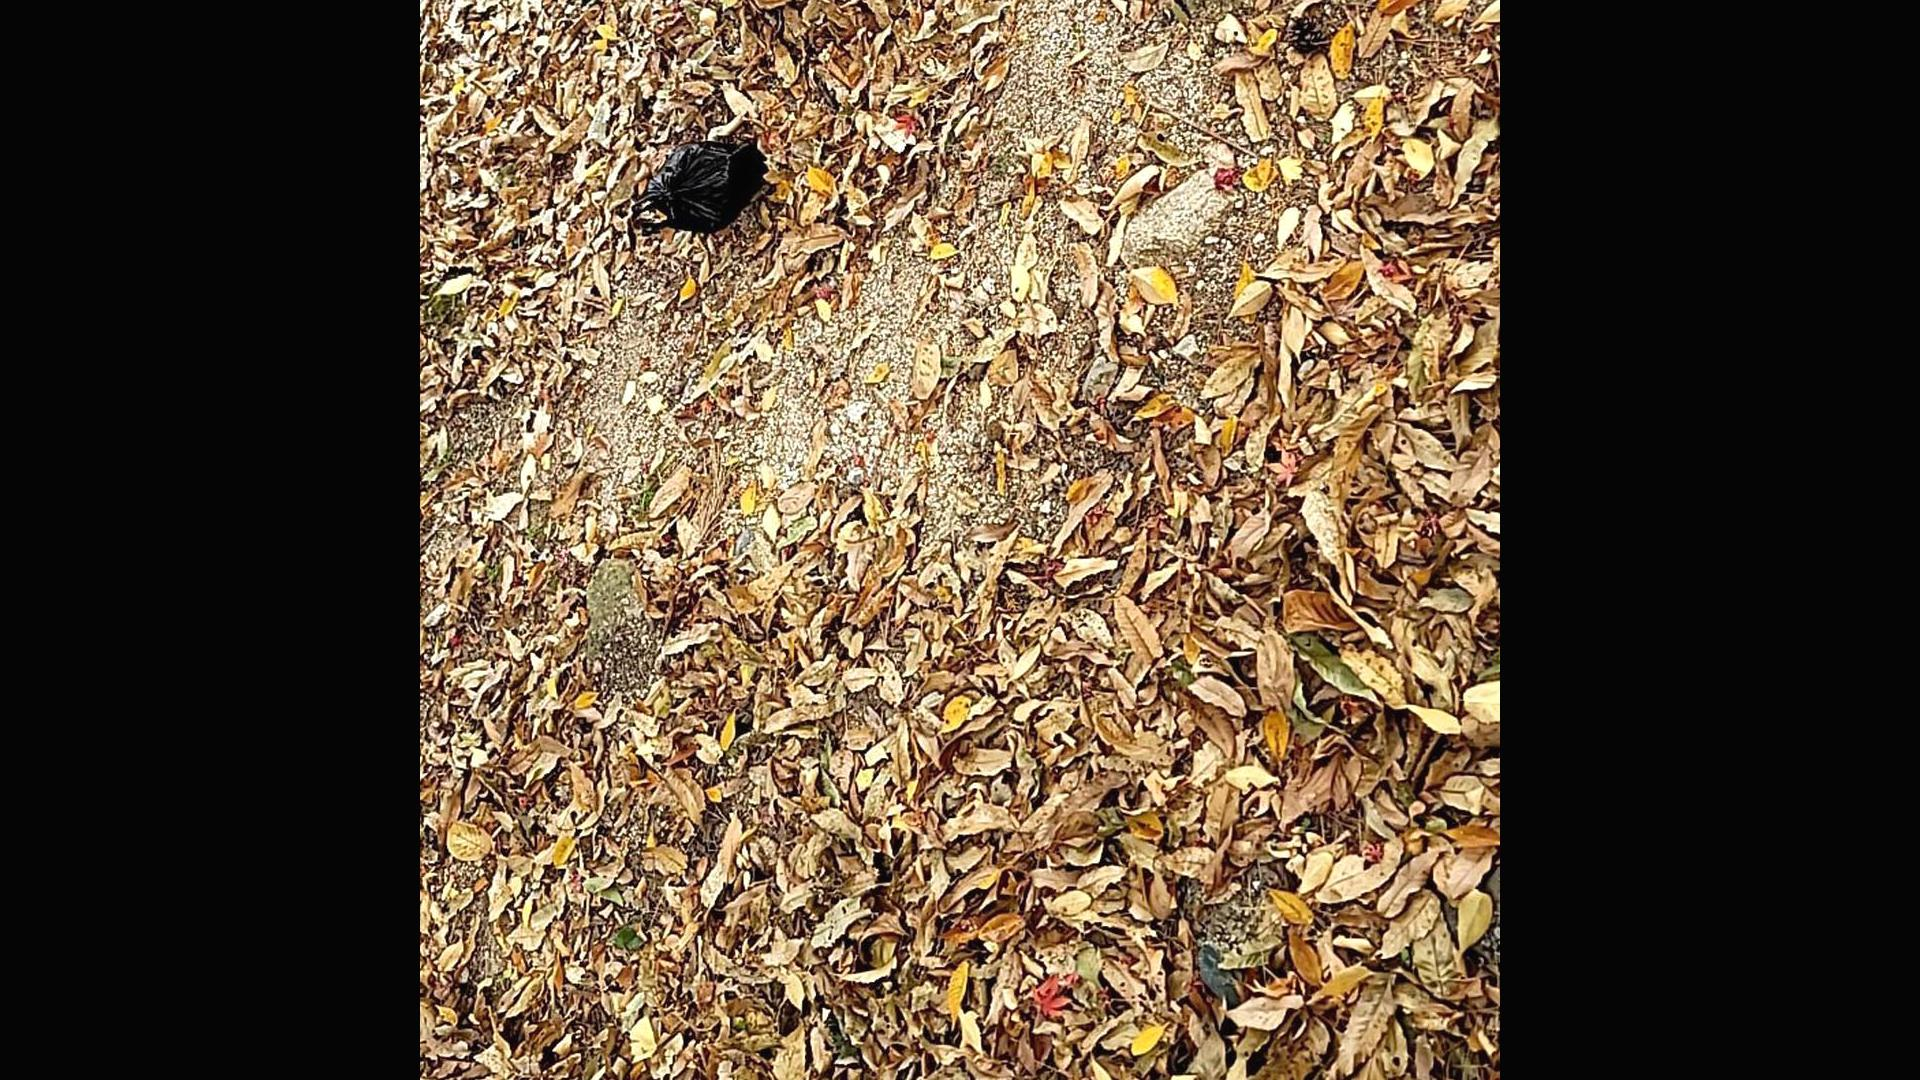black_bag: (611, 127, 769, 243)
